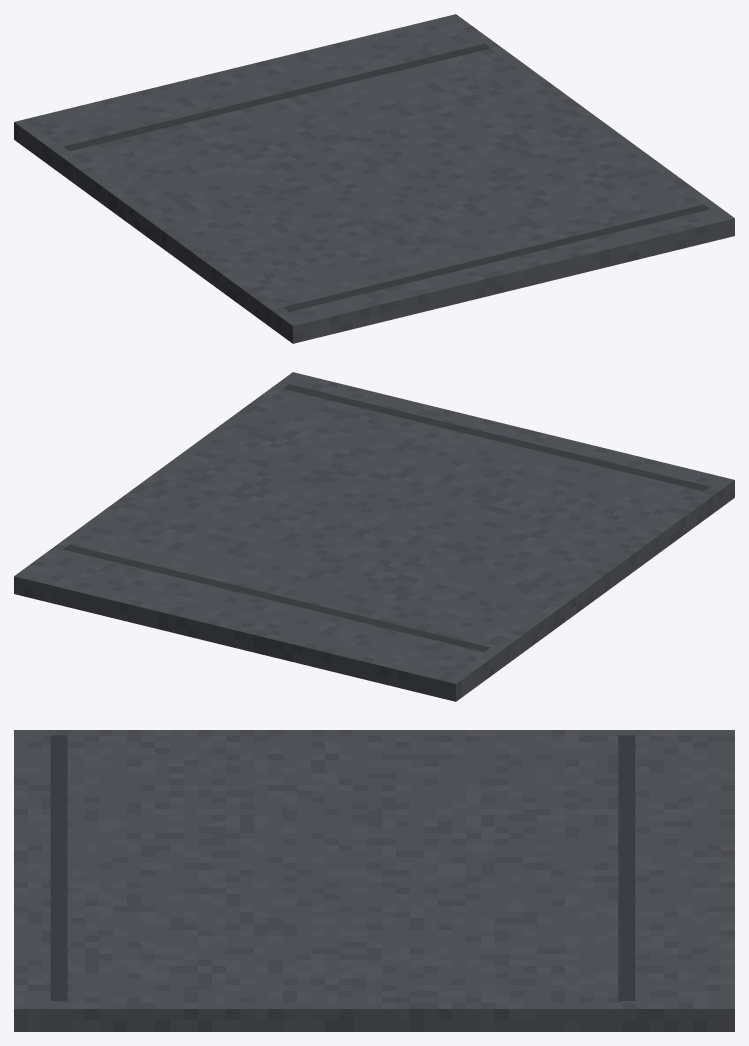
Rendered from sheet_lycra.glb.
The picture shows the model from 3 angles, top to bottom: view 1: azimuth 30°, elevation 25°; view 2: azimuth 150°, elevation 25°; view 3: azimuth 270°, elevation 25°; orthographic projection. The views are drawn at different scales.
Visible parts, largest first — view 1: block_flat stock, block_edge crease (×2); view 2: block_flat stock, block_edge crease (×2); view 3: block_flat stock, block_edge crease (×2).
Boxes of the visible parts, x1,y1,x2,y2 form: block_flat stock: (14, 14, 734, 343); block_edge crease (×2): (63, 44, 709, 311); block_flat stock: (14, 372, 734, 701); block_edge crease (×2): (63, 384, 709, 652); block_flat stock: (14, 730, 734, 1031); block_edge crease (×2): (50, 735, 635, 1000).
Bounding box in the file's own units: 0.141 × 0.00574 × 0.1541.
Materials: 1 (1 with a texture image).
